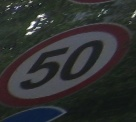Speed limit: (4, 15, 114, 109)
